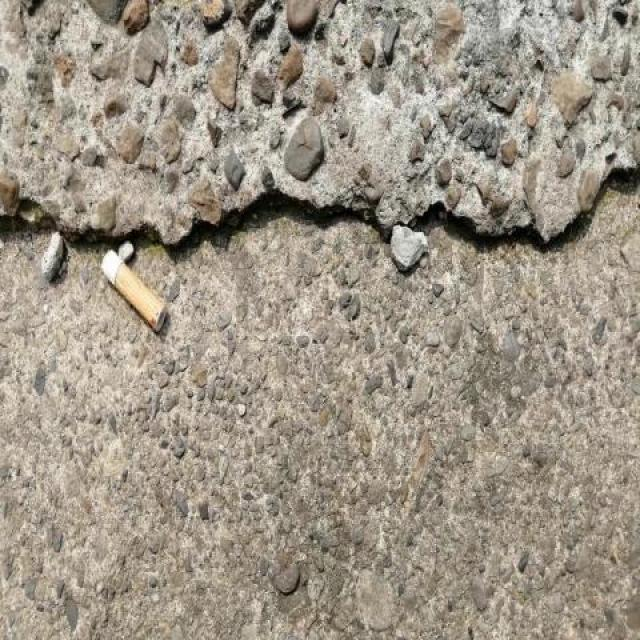non-organic waste: (95, 245, 173, 339)
